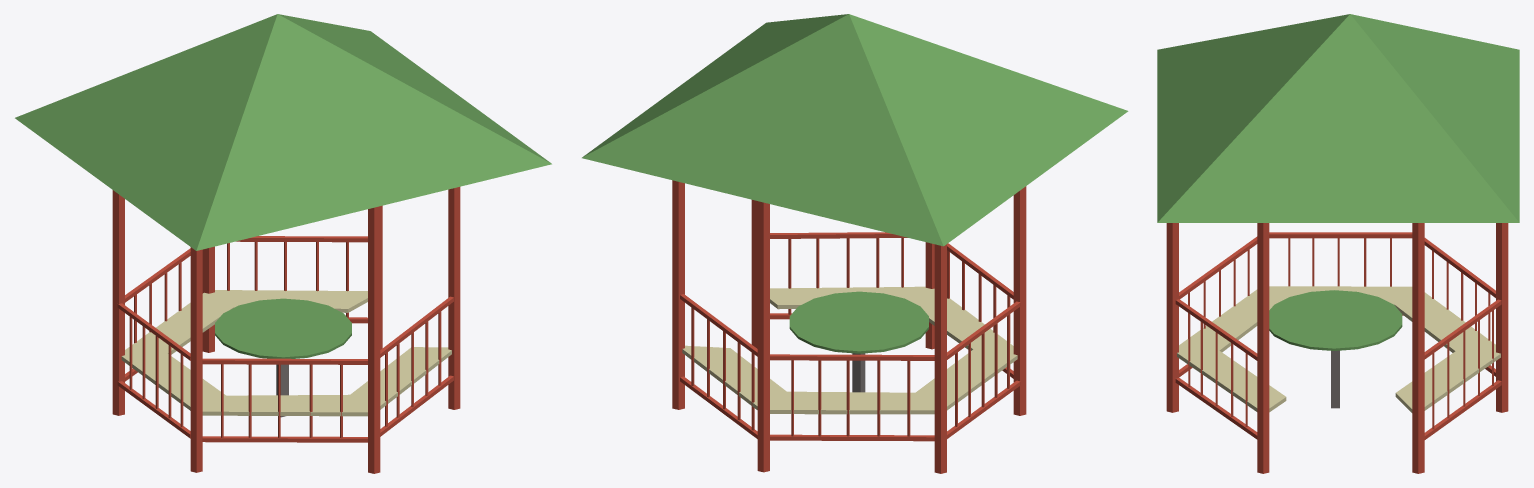
Rendered from SM_Alcove_01.fbx.
3 views of the same model, side by side, from view 1: azimuth 30°, elevation 25°; view 2: azimuth 150°, elevation 25°; view 3: azimuth 270°, elevation 25° (orthographic). The views are drawn at different scales.
Parts seen in each view (by area): view 1: SM_Alcove_01; view 2: SM_Alcove_01; view 3: SM_Alcove_01.
Part boxes in pixels (left/top/right/bottom): SM_Alcove_01: left=15, top=14, right=551, bottom=473; SM_Alcove_01: left=582, top=14, right=1128, bottom=473; SM_Alcove_01: left=1157, top=14, right=1519, bottom=473.
Size of the model in its own units: 277 by 293 by 245.
